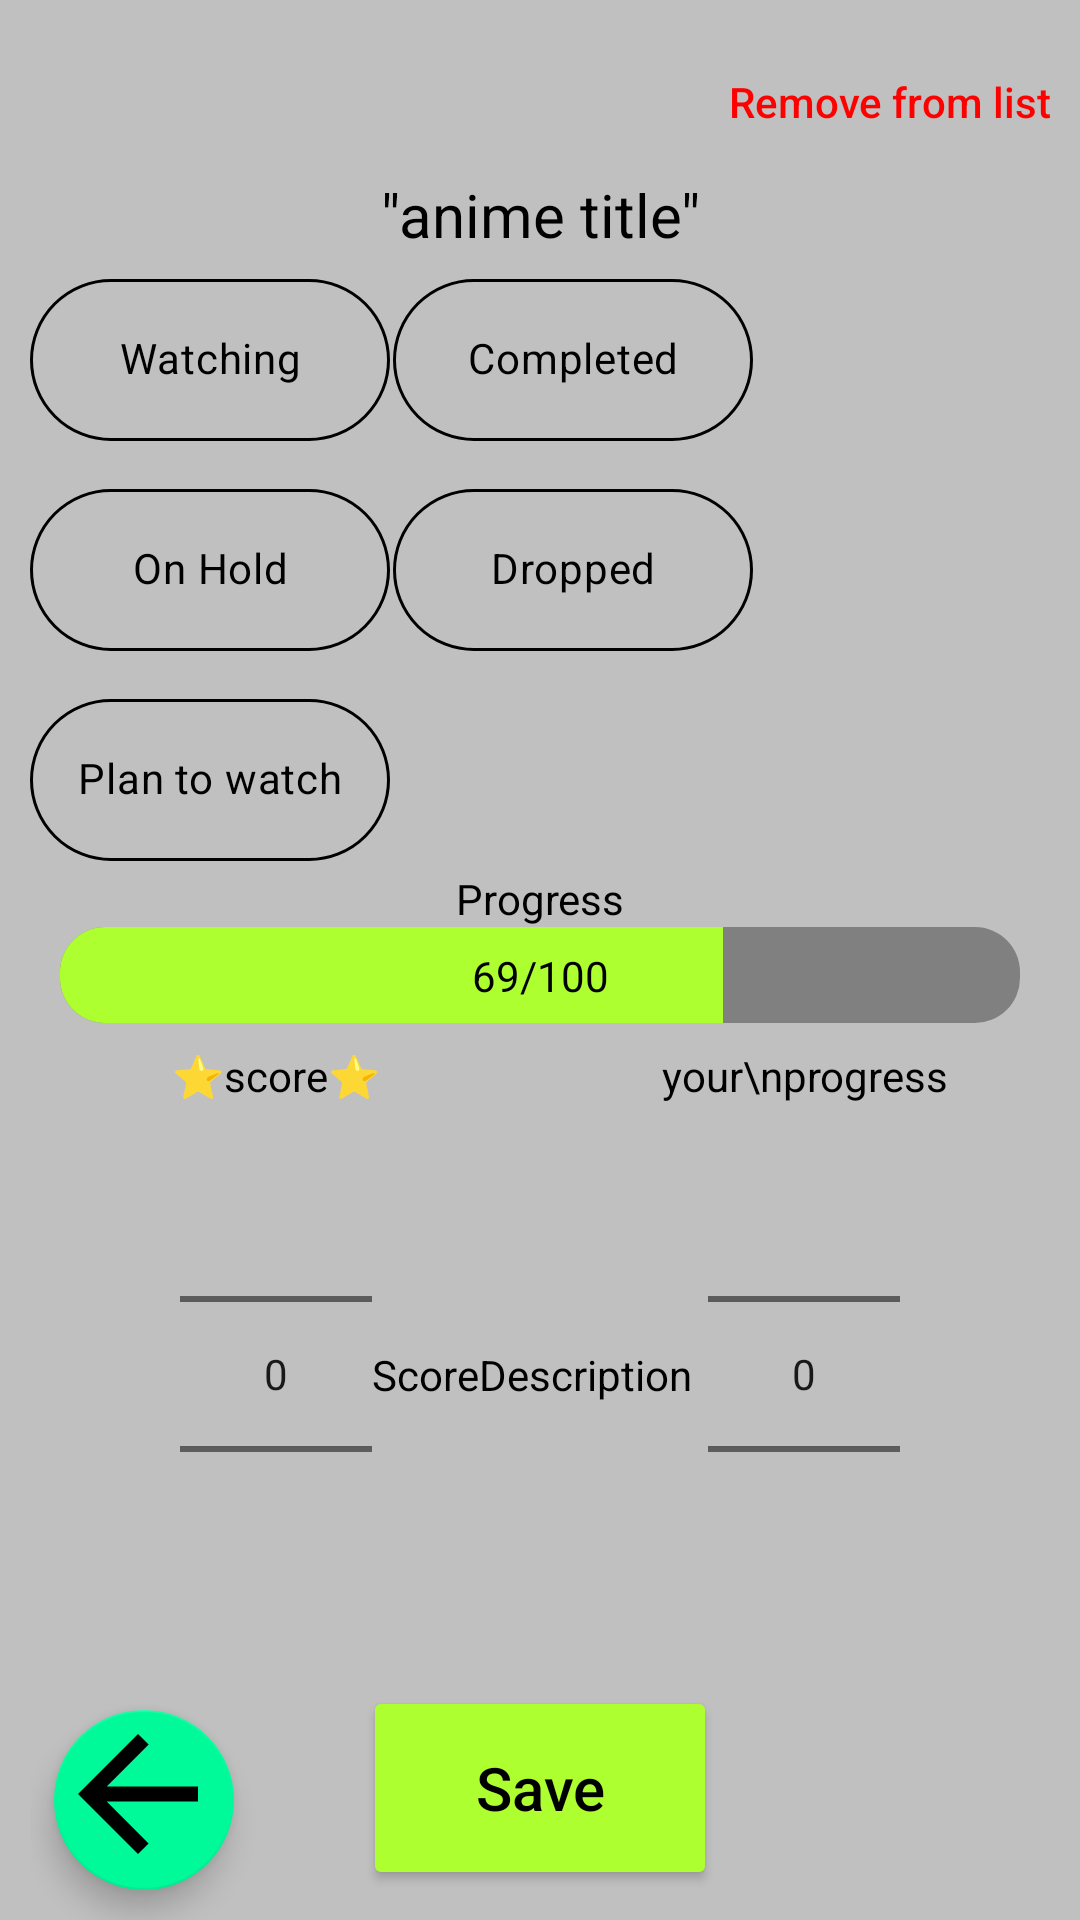

Icon bounding boxes for this 1080x1920 phone screenshot, format (x1, y1, x2, y2):
Previous page: (54, 1710, 234, 1890)
